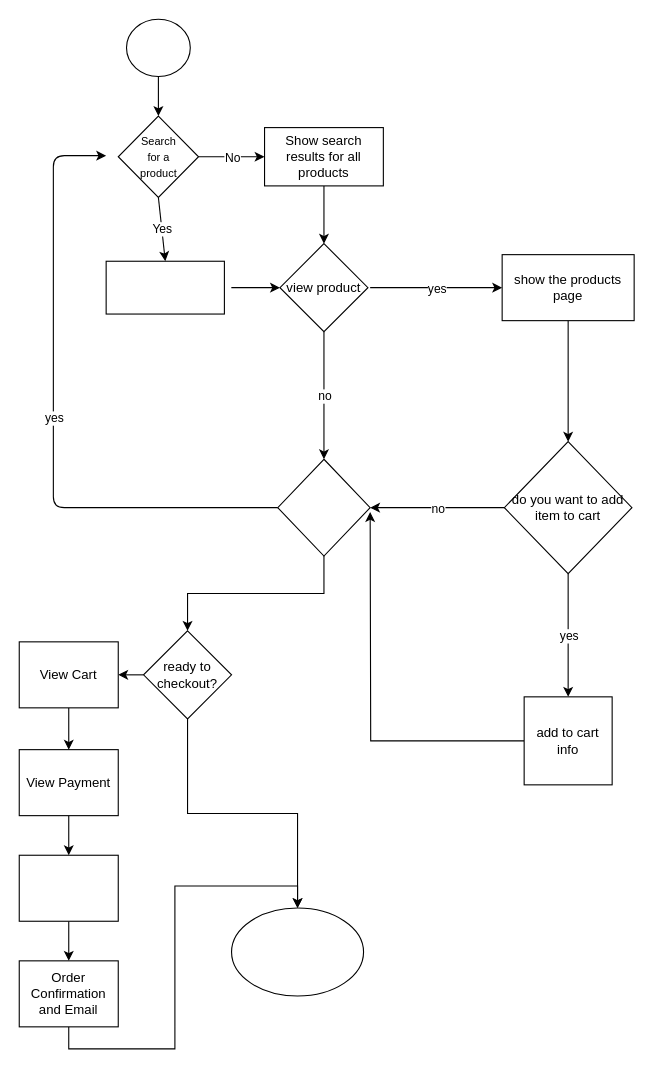
The diagram is 653 pixels wide and 1077 high, and some of its shapes have lost their labels. The box of each missing label's shape, as (x1, y1, x2, y2) in pixels:
continue shopping for products: (277, 458, 370, 556)
done: (230, 907, 364, 996)
Input Payment Method: (18, 854, 118, 921)
Show the search results for product: (105, 260, 224, 314)
Start: (125, 18, 190, 76)
